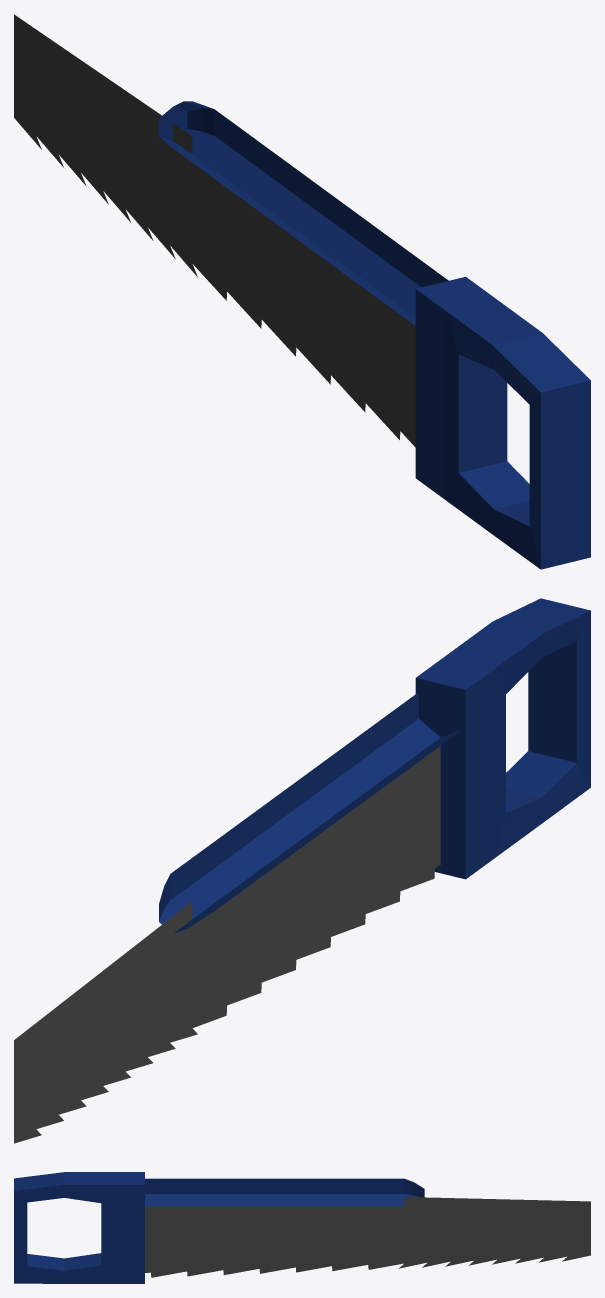
File: Saw.fbx
3 renders of one model, top to bottom at view 1: azimuth 30°, elevation 25°; view 2: azimuth 150°, elevation 25°; view 3: azimuth 270°, elevation 25°, orthographic. The views are drawn at different scales.
Visible parts, largest first — view 1: Circle, Cube; view 2: Circle, Cube; view 3: Circle, Cube.
Boxes of the visible parts, x1,y1,x2,y2 form: Circle: [14, 14, 448, 447]; Cube: [415, 276, 590, 569]; Circle: [14, 692, 461, 1143]; Cube: [415, 598, 590, 879]; Circle: [145, 1178, 590, 1277]; Cube: [14, 1172, 144, 1283].
Size of the model in its own units: 100 by 364 by 1915.
